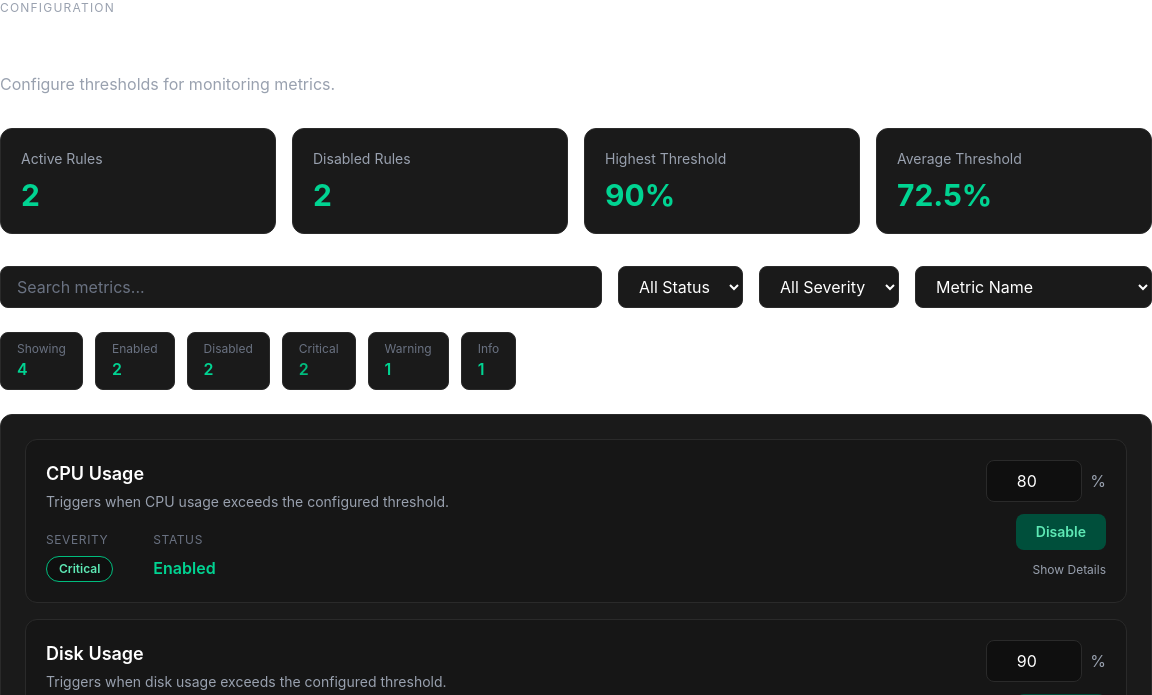
AlertRules page › searches rules by metric name
The width and height of the screenshot is (1152, 695).
Expected: the heading "CPU Usage" is shown, [46,463,144,484]
Type "memory" into the field with placeholder "Search metrics...".
click(301, 287); type("memory")  # box [0,266,602,308]
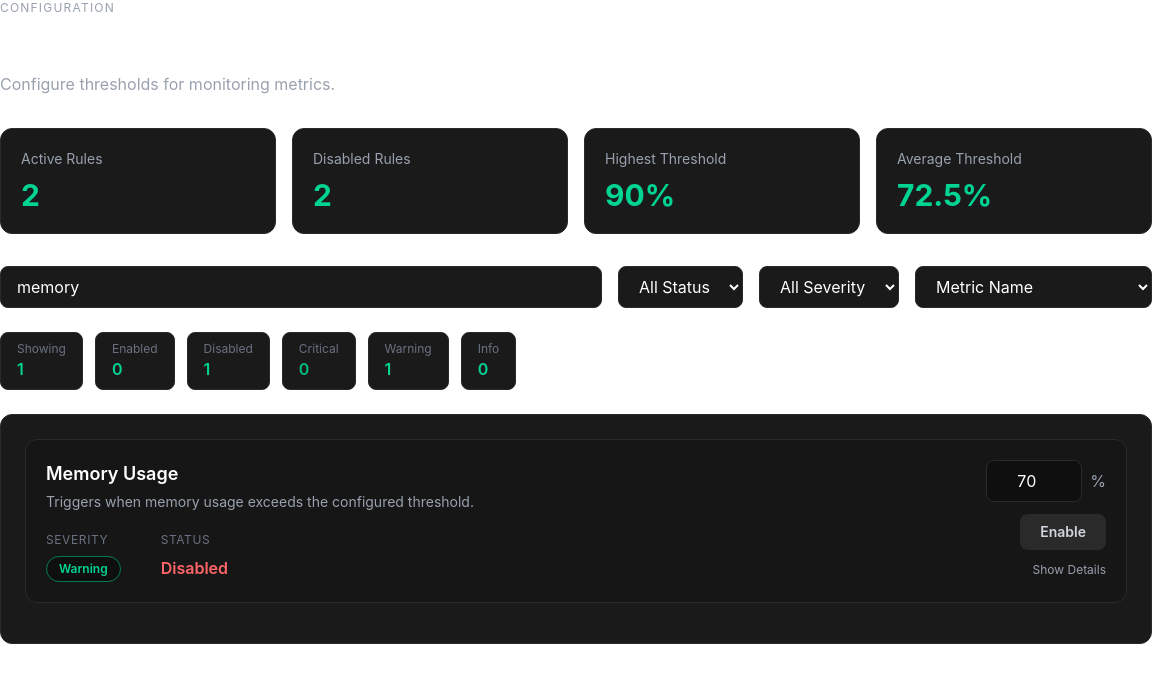
Expected: the heading "Memory Usage" is shown, [46,463,178,484]
Expected: the heading "CPU Usage" is gone
